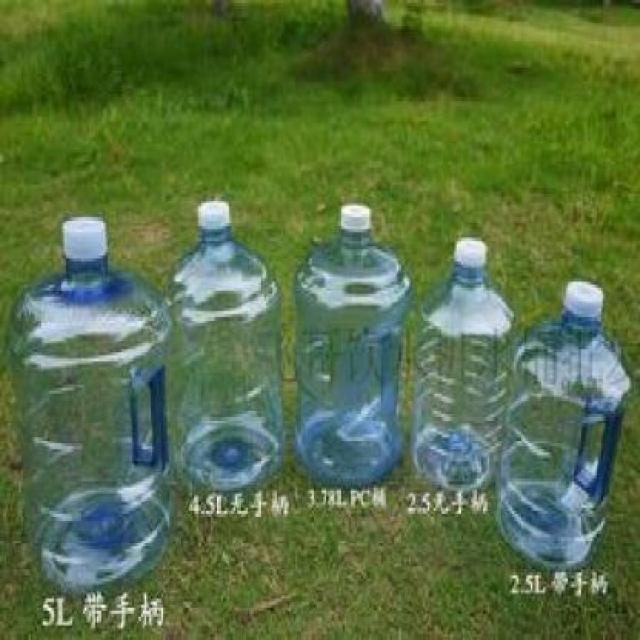coolerbottle: (11, 214, 173, 596), (495, 269, 633, 573), (291, 202, 412, 483)
